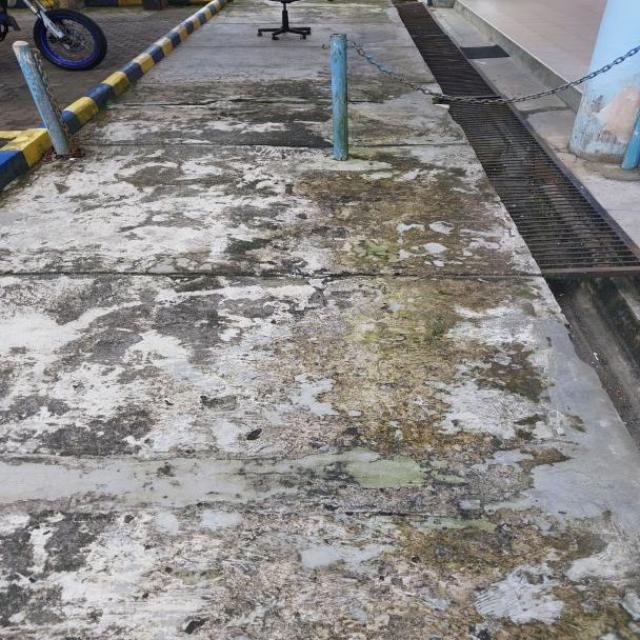barrier ahead at: (1, 36, 84, 161), (322, 20, 358, 168)
